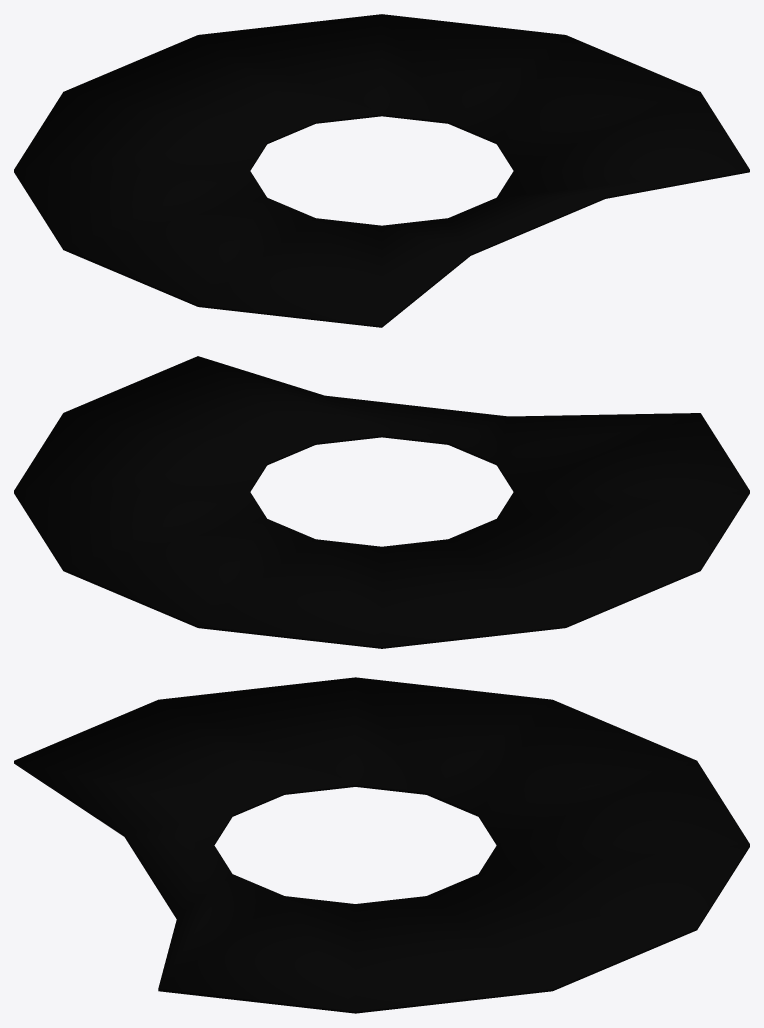
Rendered from BrokenCD.fbx.
3 views of the same model, one above another, from view 1: azimuth 30°, elevation 25°; view 2: azimuth 150°, elevation 25°; view 3: azimuth 270°, elevation 25° (orthographic). The views are drawn at different scales.
Visible parts, largest first — view 1: BrokenCD_BAKED; view 2: BrokenCD_BAKED; view 3: BrokenCD_BAKED.
Boxes of the visible parts, x1,y1,x2,y2 form: BrokenCD_BAKED: (14, 14, 749, 327); BrokenCD_BAKED: (14, 356, 749, 648); BrokenCD_BAKED: (14, 677, 749, 1013).
Bounding box in the file's own units: 25 × 0.1 × 23.33.
